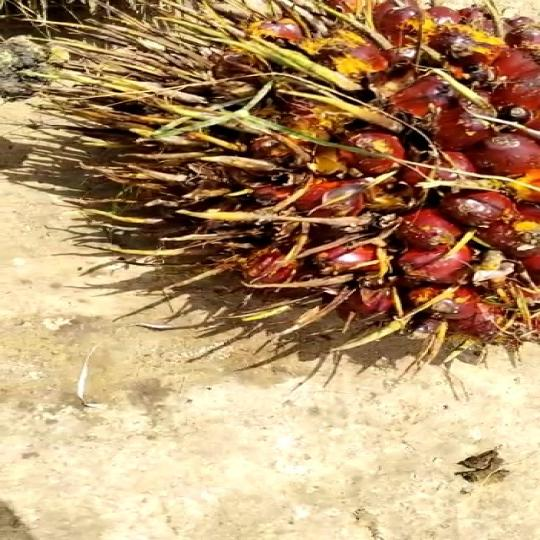masak: (44, 0, 540, 361)
